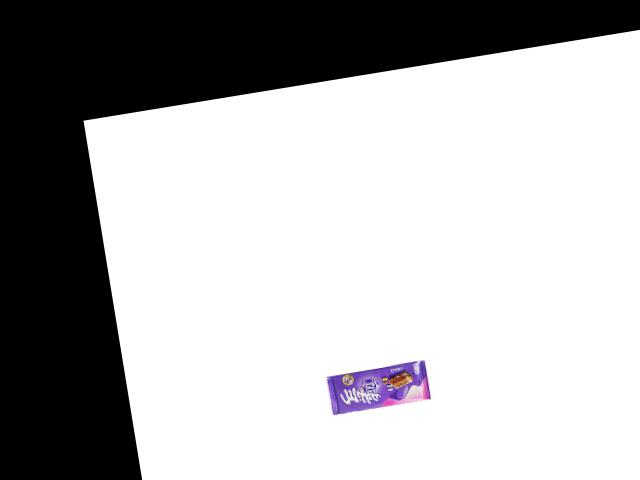chocolate: (325, 358, 430, 415)
